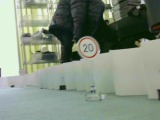speed_20: (75, 35, 101, 59)
